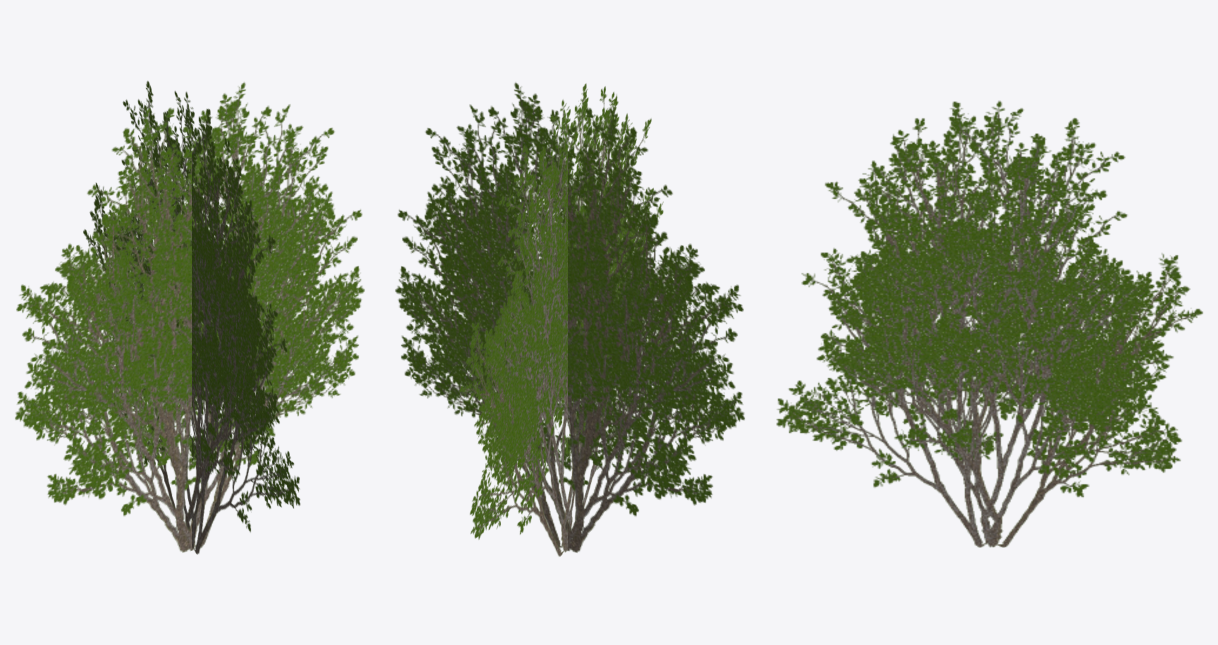
Rendered from CercocarpusMontanus.glb.
3 views of the same model, side by side, from view 1: azimuth 30°, elevation 25°; view 2: azimuth 150°, elevation 25°; view 3: azimuth 270°, elevation 25° (orthographic).
Visible parts, largest first — view 1: mesh__mat_billboard_4; view 2: mesh__mat_billboard_4; view 3: mesh__mat_billboard_4.
Part boxes in pixels (bbox=[...]): mesh__mat_billboard_4: bbox=[15, 81, 364, 554]; mesh__mat_billboard_4: bbox=[395, 82, 744, 556]; mesh__mat_billboard_4: bbox=[776, 101, 1202, 547].
Bounding box in the file's own units: 3.22 × 4 × 3.47.
1 material, 1 textured.
